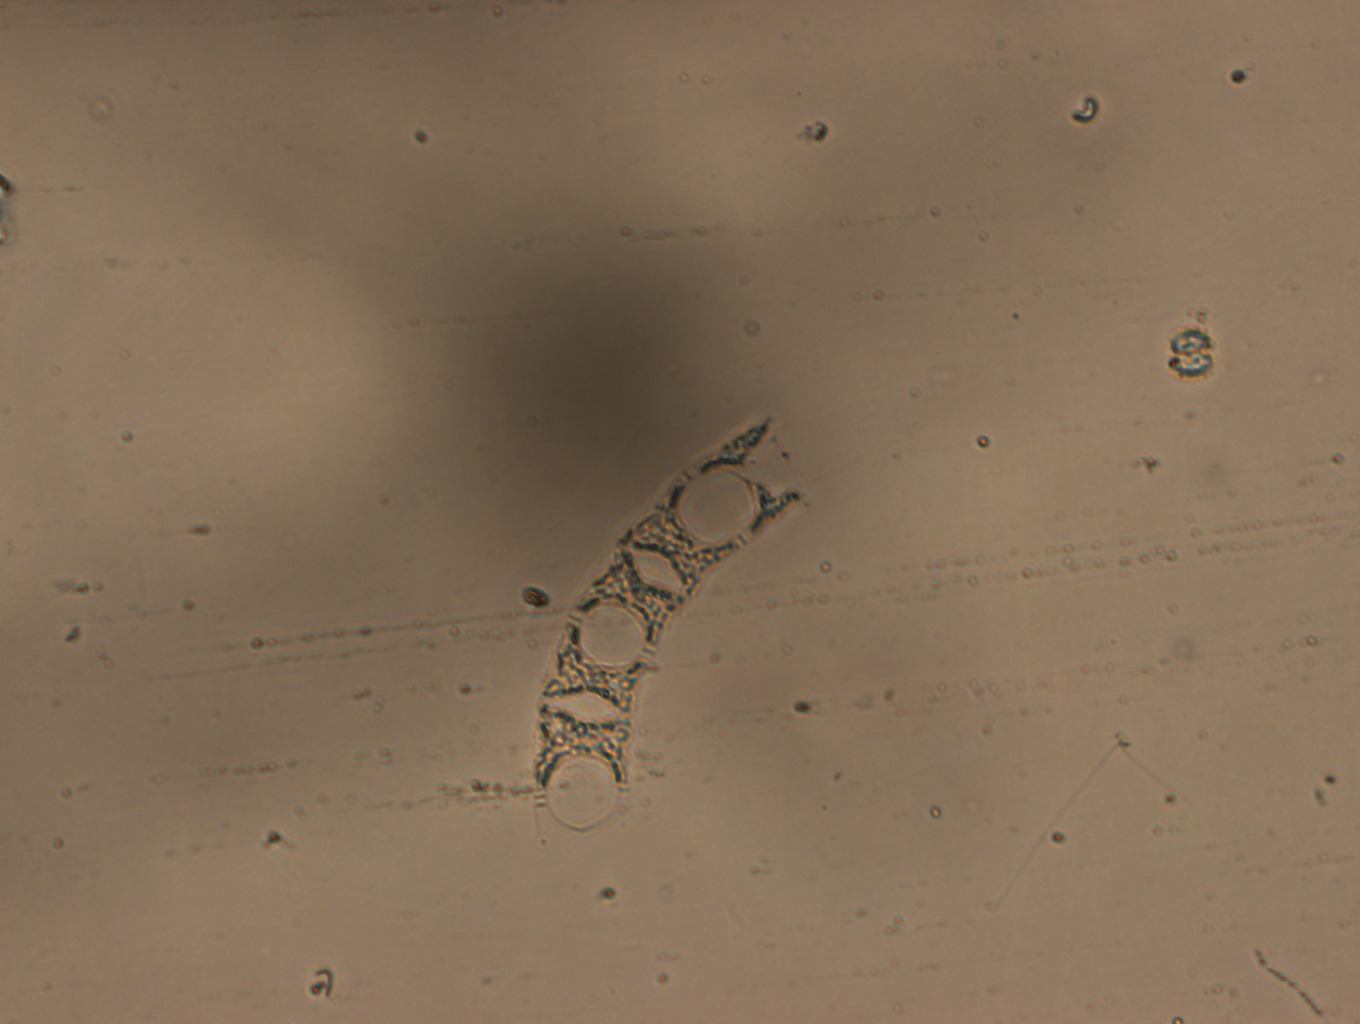eucampia: (531, 418, 798, 844)
